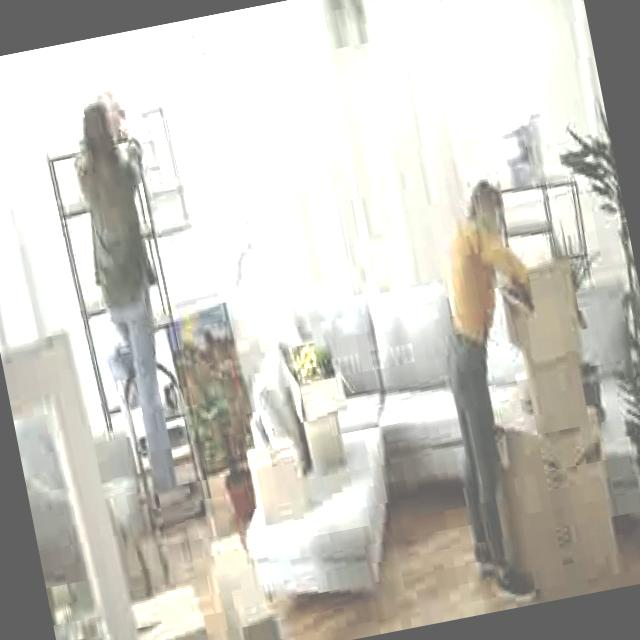Box: (493, 416, 628, 602), (209, 524, 279, 640), (502, 281, 584, 371), (244, 437, 314, 527), (123, 573, 215, 640), (290, 382, 354, 470), (530, 366, 594, 443)
